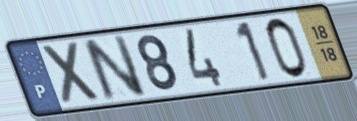0: (265, 15, 310, 80)
1: (234, 19, 273, 85)
4: (186, 26, 223, 89)
8: (134, 33, 181, 94)
N: (78, 32, 150, 104)
X: (39, 39, 105, 108)
